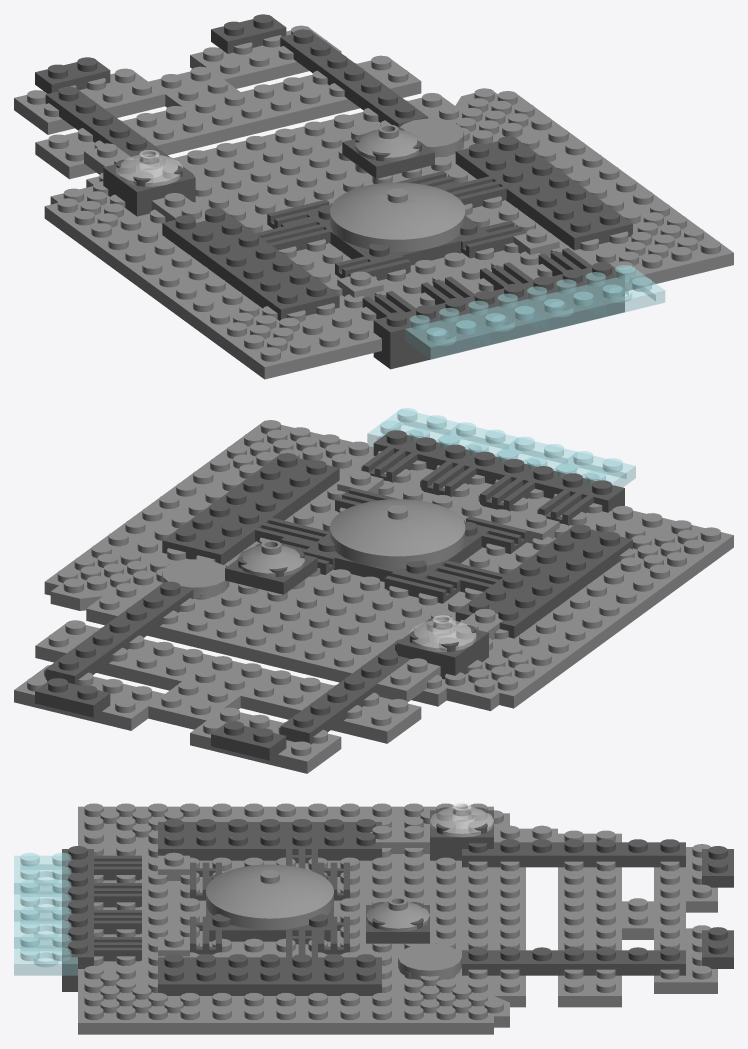
File: 005-generated_millennium_falcon.glb
3 renders of one model, top to bottom at view 1: azimuth 30°, elevation 25°; view 2: azimuth 150°, elevation 25°; view 3: azimuth 270°, elevation 25°, orthographic. The views are drawn at different scales.
Parts seen in each view (by area): view 1: 41539.dat (×6), 3021.dat (×6), 3022.dat (×10), 3795.dat (×4), 3010.dat (×3), 3710.dat (×6), 2412b.dat (×9), 3034.dat (×2), 3020.dat (×2), 3960.dat, 2450.dat (×4), 3004.dat (×2) (+4 smaller); view 2: 41539.dat (×6), 3795.dat (×4), 3021.dat (×6), 3022.dat (×10), 3710.dat (×6), 2412b.dat (×10), 3960.dat, 3034.dat (×3), 3020.dat (×2), 3010.dat (×3), 2450.dat (×4), 3023b.dat (×2) (+4 smaller); view 3: 41539.dat (×6), 3021.dat (×6), 3022.dat (×10), 3710.dat (×6), 3795.dat (×4), 2412b.dat (×10), 3960.dat, 3020.dat (×2), 3034.dat (×3), 3010.dat (×3), 2450.dat (×3), 4740.dat (×2) (+4 smaller).
Boxes of the visible parts, box(x1,y1,x2,y2) form: 41539.dat (×6): box(44, 91, 703, 366); 3021.dat (×6): box(162, 136, 632, 320); 3022.dat (×10): box(148, 66, 665, 359); 3795.dat (×4): box(35, 55, 458, 187); 3010.dat (×3): box(373, 262, 624, 369); 3710.dat (×6): box(45, 29, 427, 222); 2412b.dat (×9): box(255, 176, 591, 319); 3034.dat (×2): box(231, 231, 733, 379); 3020.dat (×2): box(14, 25, 341, 134); 3960.dat: box(330, 182, 465, 251); 2450.dat (×4): box(50, 88, 697, 351); 3004.dat (×2): box(103, 152, 195, 216); 41539.dat (×6): box(44, 432, 716, 708); 3795.dat (×4): box(35, 583, 449, 743); 3021.dat (×6): box(162, 453, 632, 638); 3022.dat (×10): box(148, 408, 635, 729); 3710.dat (×6): box(45, 581, 502, 744); 2412b.dat (×10): box(255, 447, 593, 603); 3960.dat: box(330, 499, 465, 568); 3034.dat (×3): box(232, 420, 733, 566); 3020.dat (×2): box(14, 665, 341, 773); 3010.dat (×3): box(373, 430, 624, 512); 2450.dat (×4): box(50, 430, 697, 711); 3023b.dat (×2): box(35, 678, 286, 760); 41539.dat (×6): box(110, 803, 493, 1034); 3021.dat (×6): box(158, 819, 381, 995); 3022.dat (×10): box(14, 852, 685, 975); 3710.dat (×6): box(370, 825, 685, 975); 3795.dat (×4): box(468, 830, 621, 1007); 2412b.dat (×10): box(94, 849, 349, 961); 3960.dat: box(206, 864, 333, 930); 3020.dat (×2): box(654, 844, 717, 993); 3034.dat (×3): box(78, 803, 141, 1034); 3010.dat (×3): box(62, 846, 93, 991); 2450.dat (×3): box(100, 810, 509, 1027); 4740.dat (×2): box(366, 802, 493, 931).
Size of the model in its own units: 0.128 by 0.0192 by 0.18.
